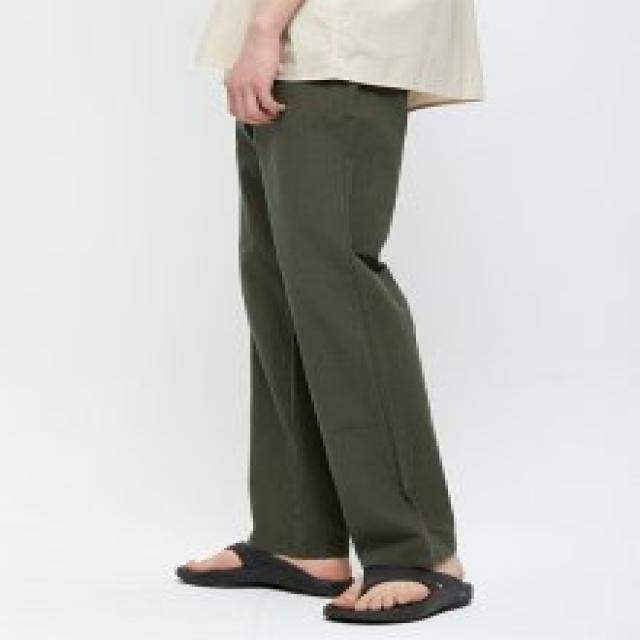long-pants: (241, 78, 458, 565)
